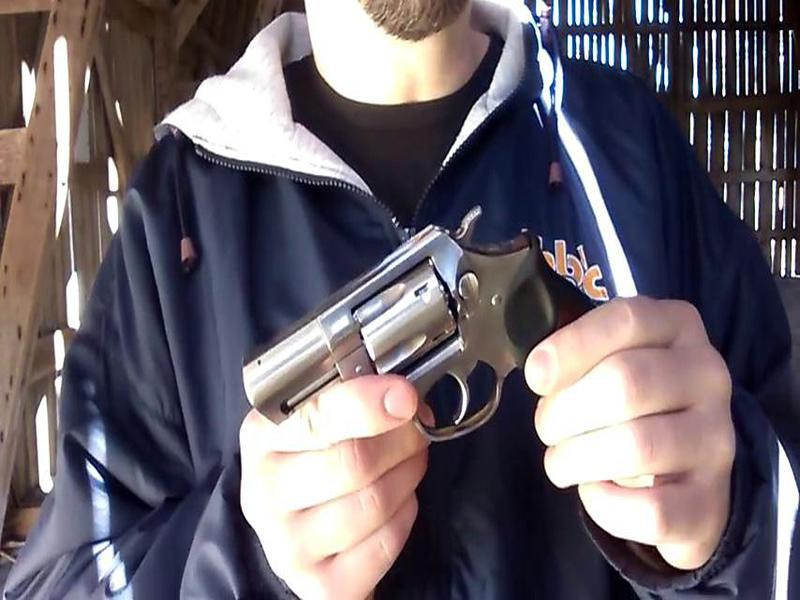Revolver: (228, 200, 598, 462)
